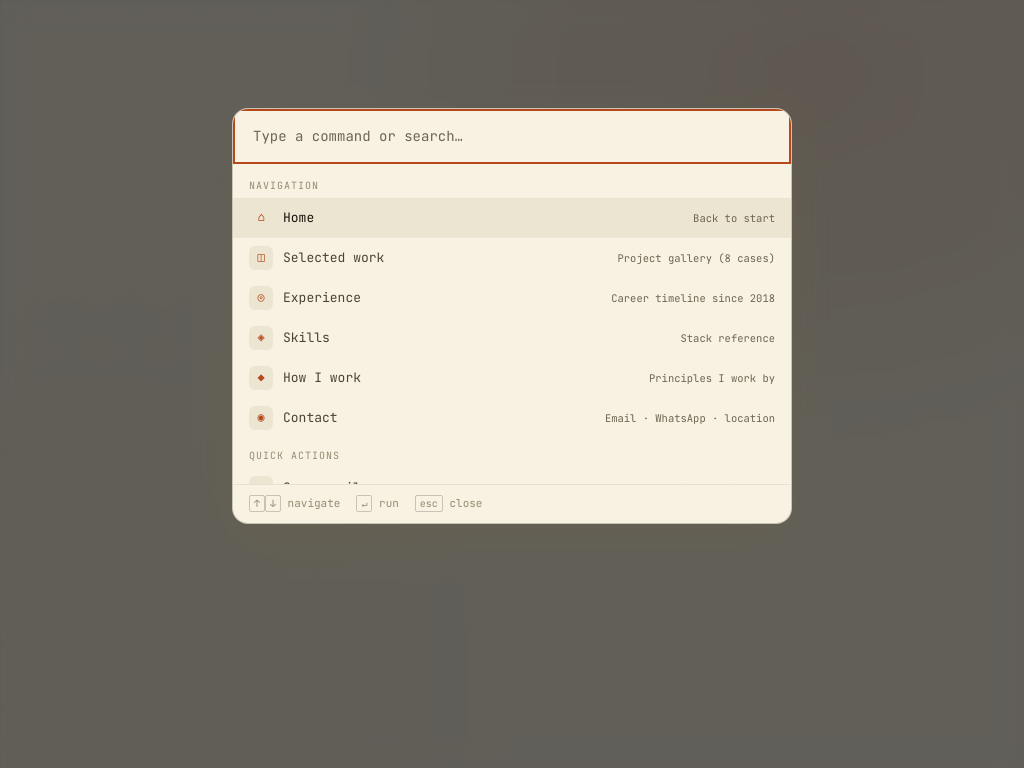
Scenario: CommandPalette › shows an empty state when no items match the query
Type "zzzzznomatchzzzzz" into the dropdown.
click(512, 136); type("zzzzznomatchzzzzz")  # box [233,108,791,164]
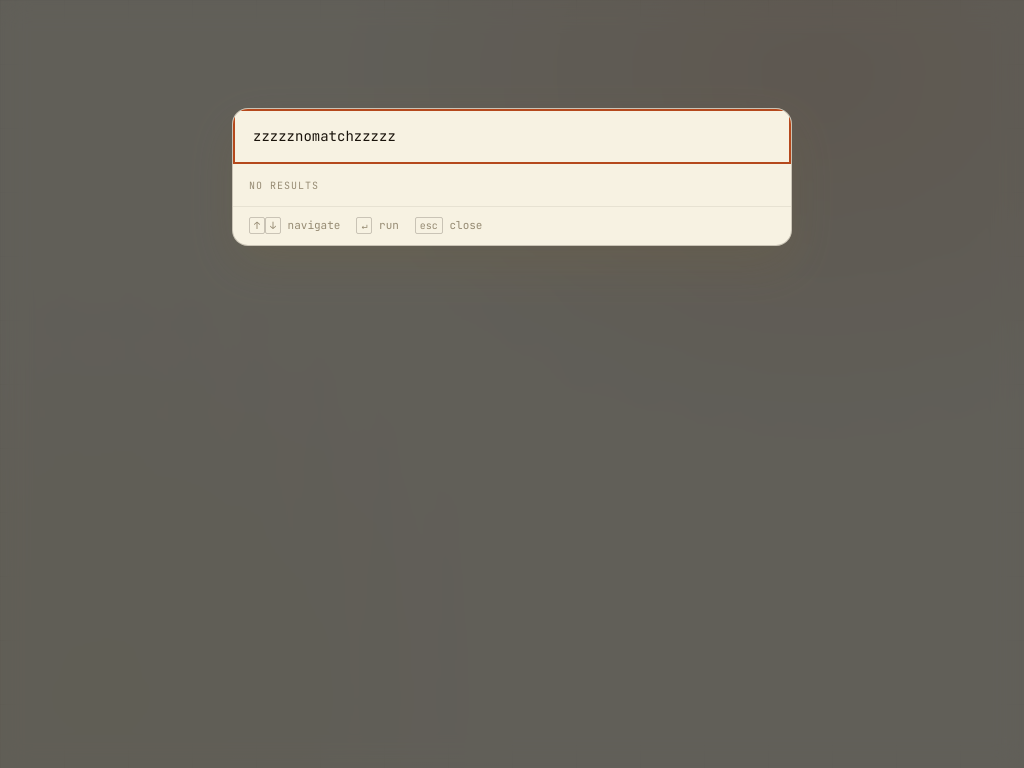
Expected: the text "No results" is shown, [249,179,319,192]
